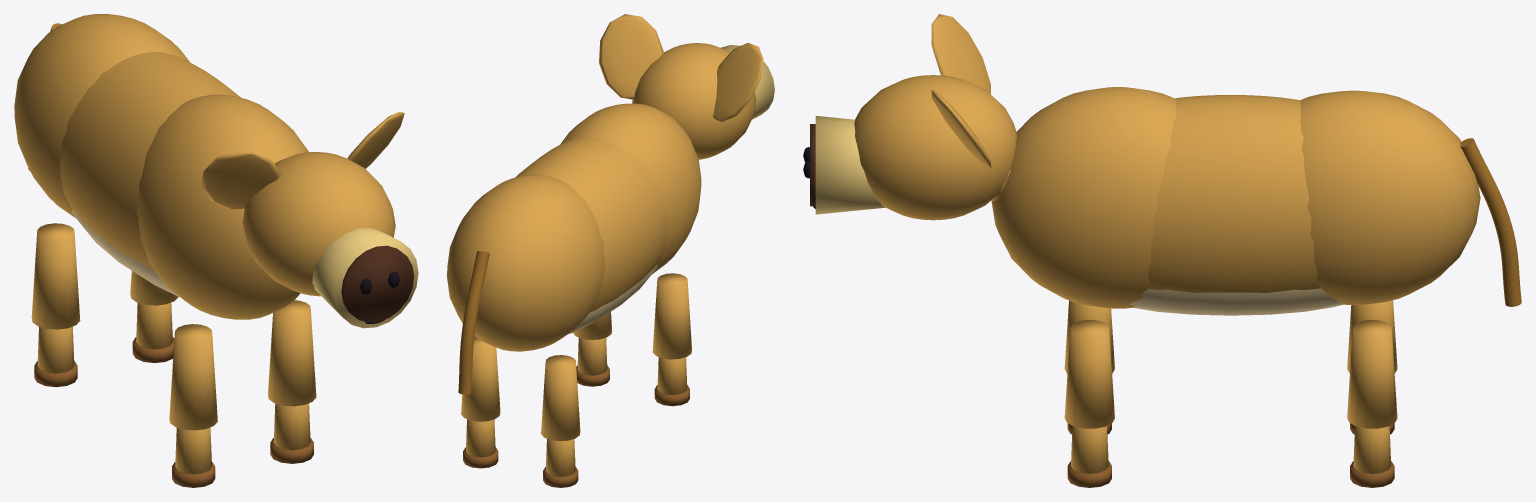
Rendered from lion.glb.
The picture shows the model from 3 angles, left to right: view 1: azimuth 30°, elevation 25°; view 2: azimuth 150°, elevation 25°; view 3: azimuth 270°, elevation 25°; orthographic projection. The views are drawn at different scales.
Visible parts, largest first — view 1: body, head, legFR, legBR, legFL, earR, legBL, earL; view 2: body, head, legBR, legFR, legBL, earL, earR, legFL, tail; view 3: body, head, legFL, legBL, tail, earR, legBR, earL, legFR.
Boxes of the visible parts, left/top/right/bottom form: body: left=14, top=14, right=308, bottom=319; head: left=242, top=152, right=418, bottom=328; legFR: left=169, top=324, right=217, bottom=487; legBR: left=31, top=223, right=80, bottom=387; legFL: left=268, top=300, right=316, bottom=463; earR: left=201, top=152, right=281, bottom=209; legBL: left=130, top=271, right=178, bottom=362; earL: left=347, top=112, right=404, bottom=168; body: left=447, top=103, right=701, bottom=351; head: left=632, top=43, right=774, bottom=159; legBR: left=541, top=355, right=580, bottom=487; legFR: left=652, top=273, right=691, bottom=406; legBL: left=461, top=336, right=500, bottom=468; earL: left=599, top=14, right=663, bottom=99; earR: left=713, top=43, right=763, bottom=122; legFL: left=573, top=312, right=611, bottom=386; tail: left=458, top=250, right=489, bottom=394; body: left=991, top=87, right=1480, bottom=315; head: left=803, top=75, right=1016, bottom=220; legFL: left=1064, top=320, right=1114, bottom=487; legBL: left=1347, top=320, right=1397, bottom=487; tail: left=1460, top=138, right=1521, bottom=306; earR: left=931, top=14, right=990, bottom=94; legBR: left=1347, top=300, right=1397, bottom=434; earL: left=931, top=90, right=991, bottom=168; legFR: left=1064, top=300, right=1114, bottom=434.
Bounding box in the file's own units: 0.8461 × 1.59 × 2.59.
